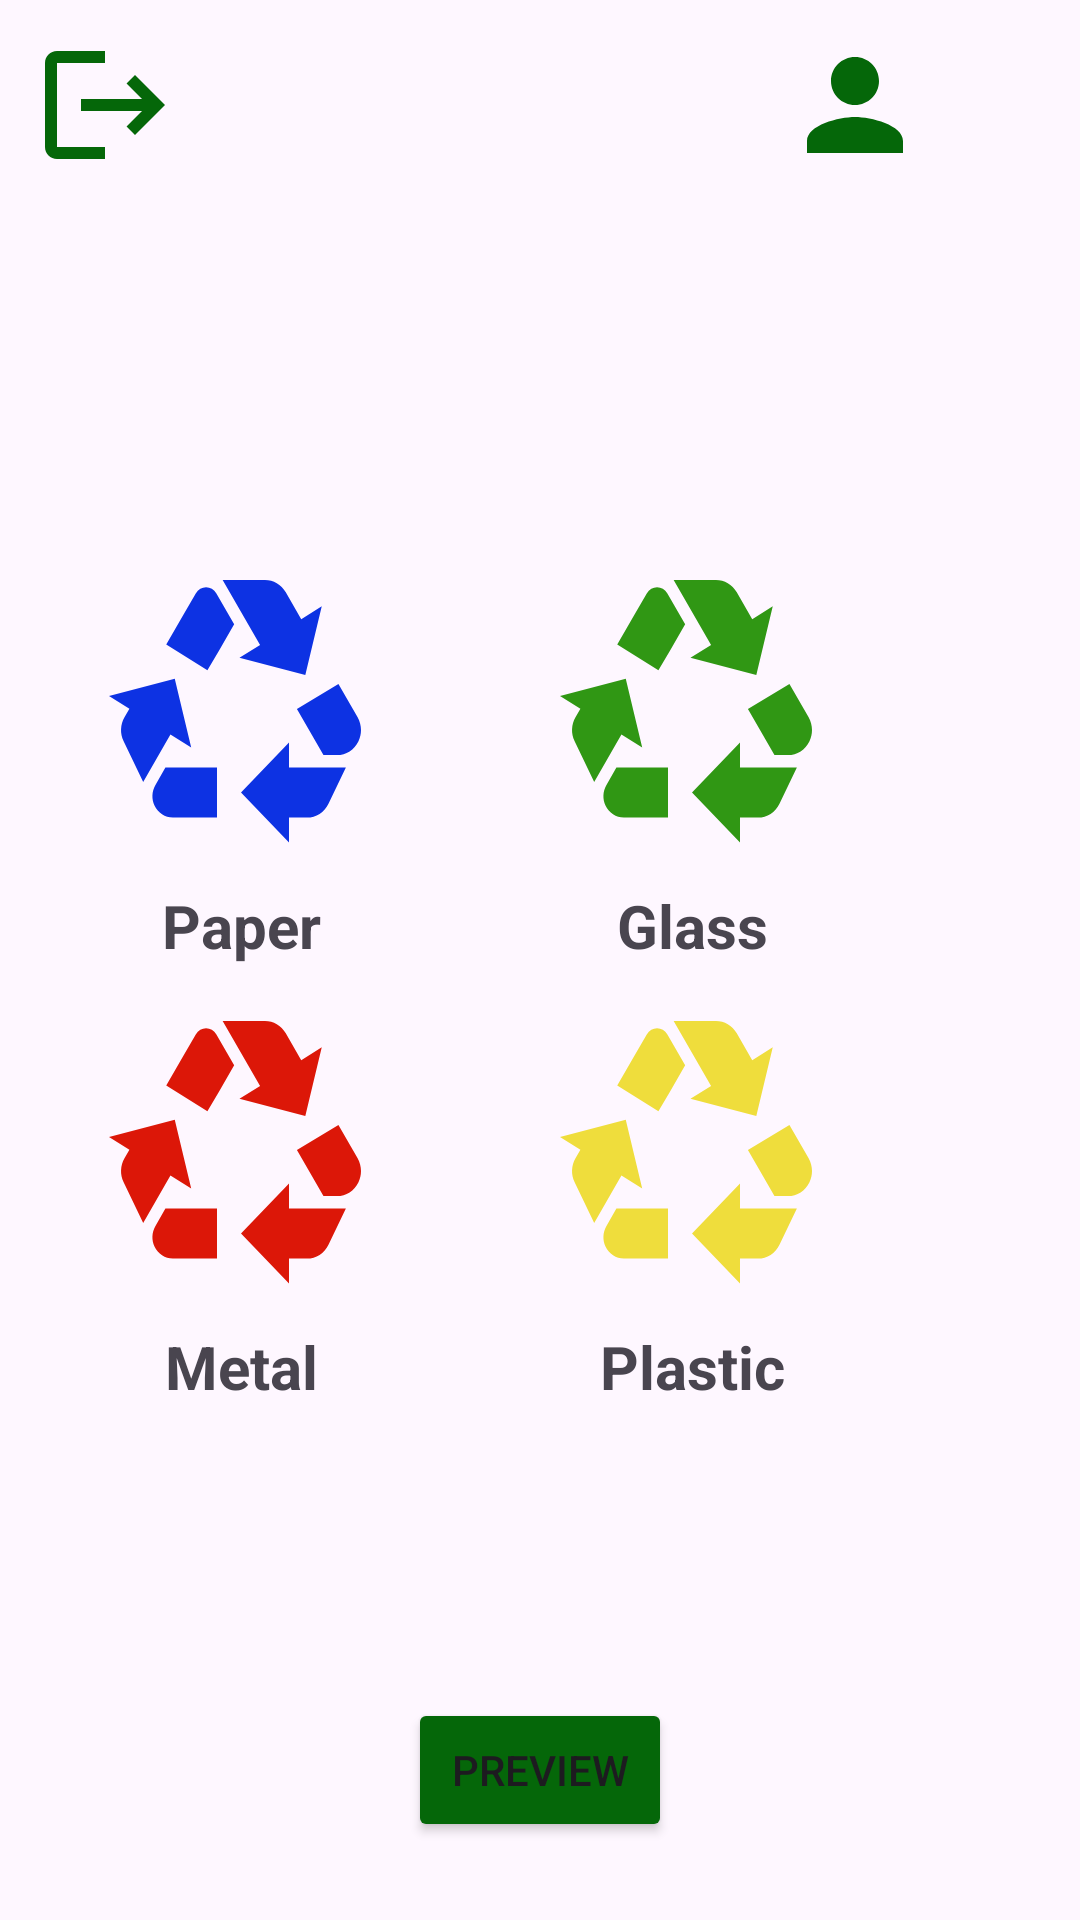

Icon click points for this 1080 x 1920 phone screenshot, format (x=x, y=y):
Account: (x=855, y=105)
